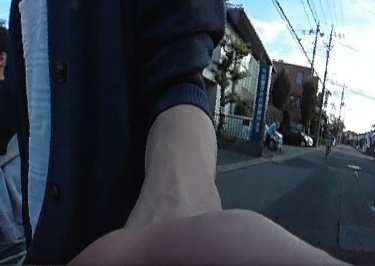person: (266, 117, 279, 147), (323, 129, 334, 154)
